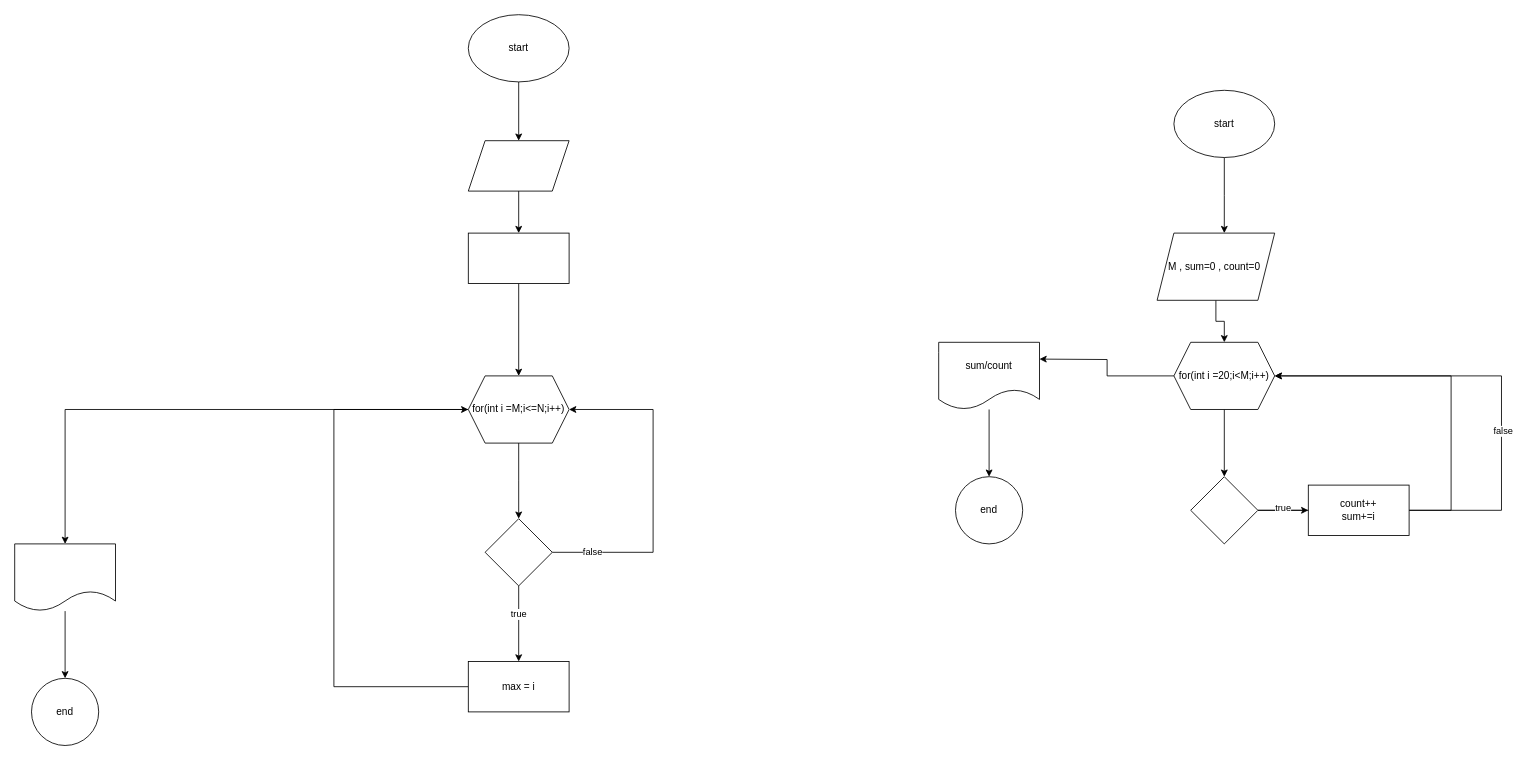
The diagram is 1527 pixels wide and 760 high, and some of its shapes have lost their labels. The shapes that lost their labels are listed below. From the top down, each one's centre as x and y in pixels, then its label:
At [518,165]: "M . N , max".
At [518,258]: "max=M".
At [1224,510]: "i%21==0".
At [518,552]: "i>max".
At [65,577]: "max".
